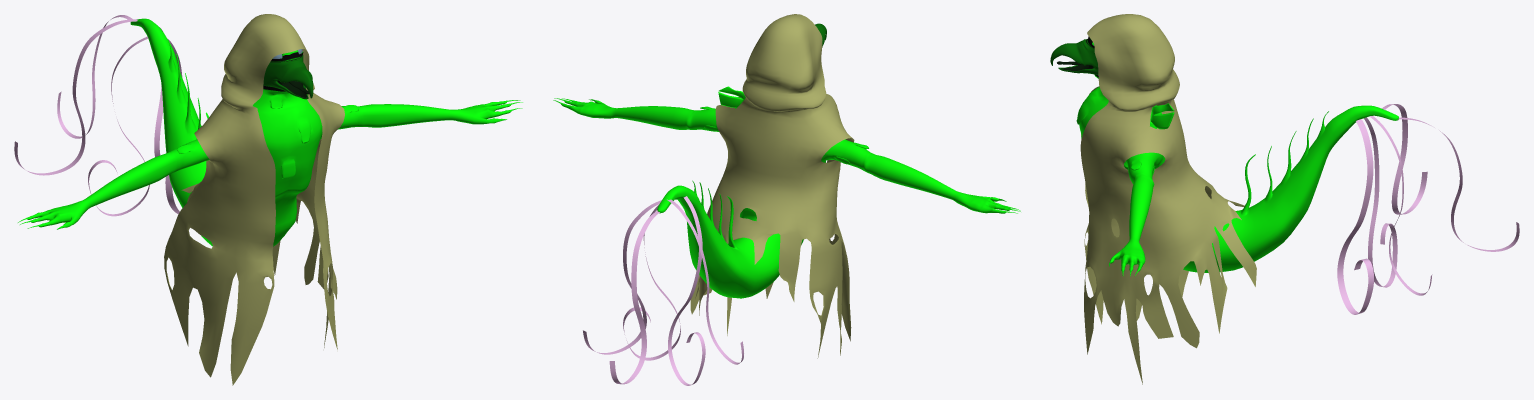
Rendered from replika_texture_new.fbx.
The picture shows the model from 3 angles, left to right: view 1: azimuth 30°, elevation 25°; view 2: azimuth 150°, elevation 25°; view 3: azimuth 270°, elevation 25°; orthographic projection. The views are drawn at different scales.
Parts seen in each view (by area): view 1: cope2:copebody_mesh1, body, sweep5, sweep6, sweep4; view 2: cope2:copebody_mesh1, body, sweep6, sweep4, sweep2, sweep5, sweep3; view 3: cope2:copebody_mesh1, body, sweep3, sweep4, sweep5, sweep6, sweep2.
Part boxes in pixels (<box>): cope2:copebody_mesh1: <box>164,14,344,385</box>; body: <box>18,18,522,246</box>; sweep5: <box>14,19,138,175</box>; sweep6: <box>57,15,132,138</box>; sweep4: <box>88,36,149,216</box>; cope2:copebody_mesh1: <box>690,14,854,358</box>; body: <box>553,23,1020,298</box>; sweep6: <box>609,210,659,384</box>; sweep4: <box>668,196,705,385</box>; sweep2: <box>583,200,661,354</box>; sweep5: <box>667,199,743,364</box>; sweep3: <box>623,204,680,360</box>; cope2:copebody_mesh1: <box>1080,14,1256,384</box>; body: <box>1050,36,1398,276</box>; sweep3: <box>1337,119,1373,314</box>; sweep4: <box>1364,117,1397,287</box>; sweep5: <box>1382,104,1427,214</box>; sweep6: <box>1398,117,1519,251</box>; sweep2: <box>1370,116,1432,295</box>.
Bounding box in the file's own units: 402 × 269 × 334.
